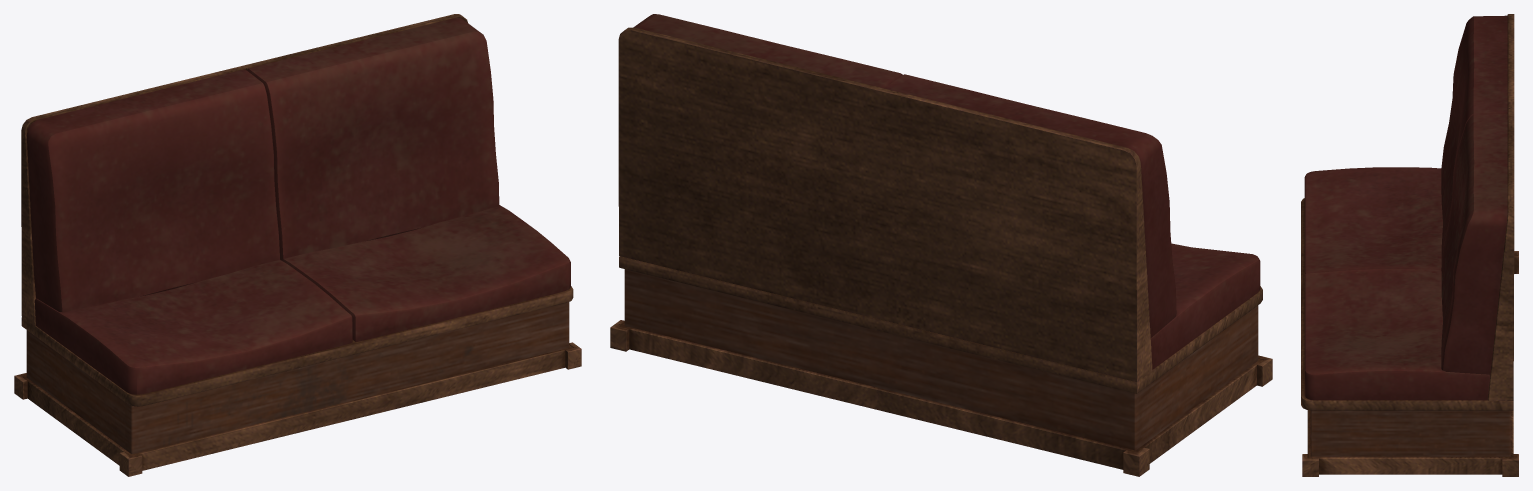
Rendered from SM_Seat.fbx.
3 views of the same model, side by side, from view 1: azimuth 30°, elevation 25°; view 2: azimuth 150°, elevation 25°; view 3: azimuth 270°, elevation 25° (orthographic). The views are drawn at different scales.
Parts seen in each view (by area): view 1: SM_Seat; view 2: SM_Seat; view 3: SM_Seat.
Part boxes in pixels (bbox=[...]): SM_Seat: bbox=[14, 14, 581, 476]; SM_Seat: bbox=[610, 14, 1272, 476]; SM_Seat: bbox=[1301, 14, 1518, 476].
Size of the model in its own units: 1.49 by 0.6525 by 0.8581.
